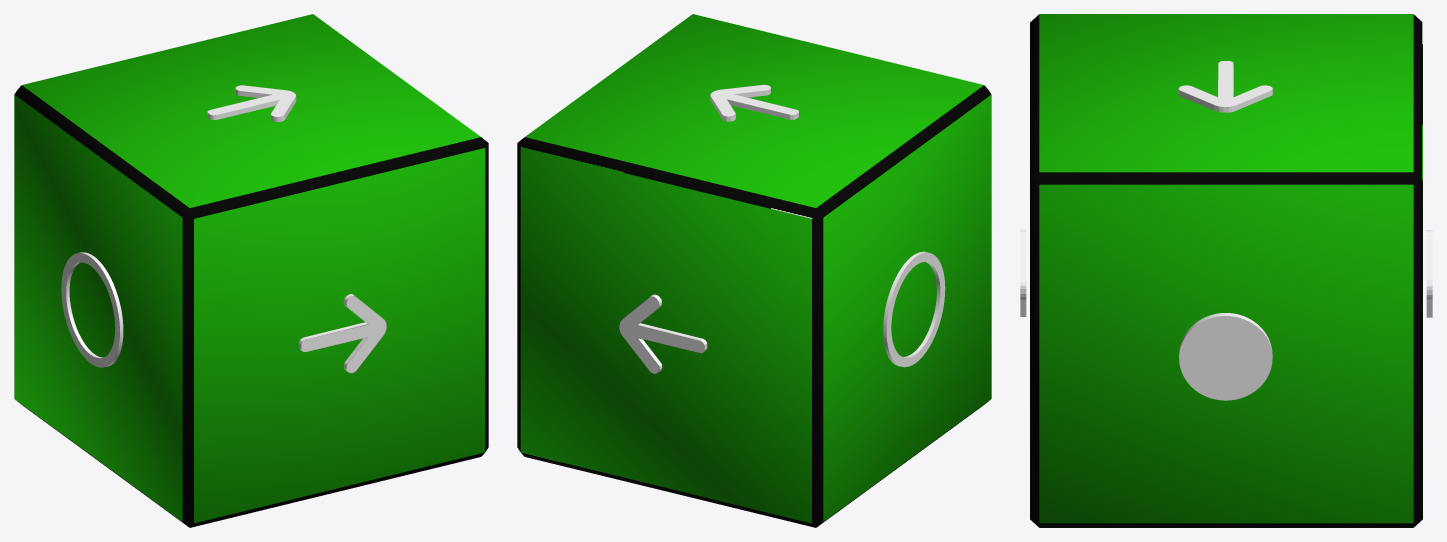
File: BigBoxTapFlowBox_2_2_2_Line_test.fbx
The picture shows the model from 3 angles, left to right: view 1: azimuth 30°, elevation 25°; view 2: azimuth 150°, elevation 25°; view 3: azimuth 270°, elevation 25°; orthographic projection. The views are drawn at different scales.
Visible parts, largest first — view 1: BigBoxTapFlowBox_2_2_2_Line_test; view 2: BigBoxTapFlowBox_2_2_2_Line_test; view 3: BigBoxTapFlowBox_2_2_2_Line_test.
Part boxes in pixels (box(x1,y1,x2,y2)): BigBoxTapFlowBox_2_2_2_Line_test: box(14, 14, 488, 527); BigBoxTapFlowBox_2_2_2_Line_test: box(517, 14, 991, 527); BigBoxTapFlowBox_2_2_2_Line_test: box(1020, 14, 1432, 527).
Bounding box in the file's own units: 2.21 × 2.2 × 2.2.
Materials: 1 (1 with a texture image).
